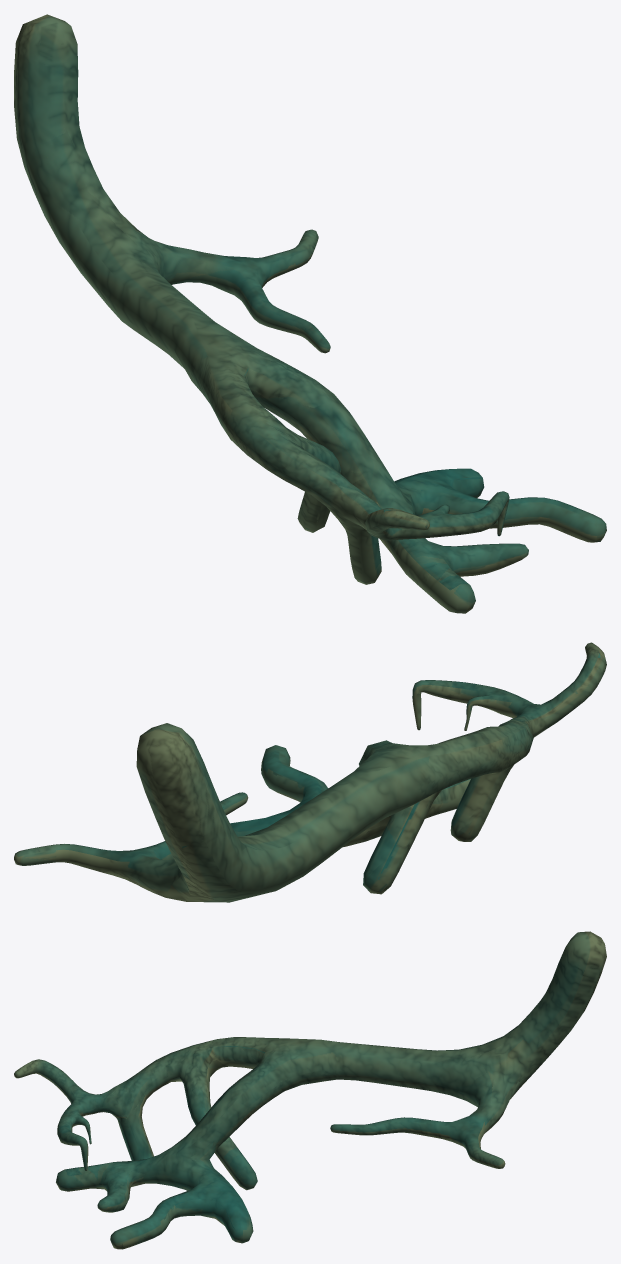
The model's file is raiz grande 3.fbx.
3 views of the same model, one above another, from view 1: azimuth 30°, elevation 25°; view 2: azimuth 150°, elevation 25°; view 3: azimuth 270°, elevation 25° (orthographic). The views are drawn at different scales.
Visible parts, largest first — view 1: raiz grande.001; view 2: raiz grande.001; view 3: raiz grande.001.
Part boxes in pixels (x1,y1,x2,y2): raiz grande.001: (14, 14, 606, 613); raiz grande.001: (14, 642, 606, 902); raiz grande.001: (14, 931, 606, 1249).
Size of the model in its own units: 355 by 382 by 833.
1 material, 1 textured.
